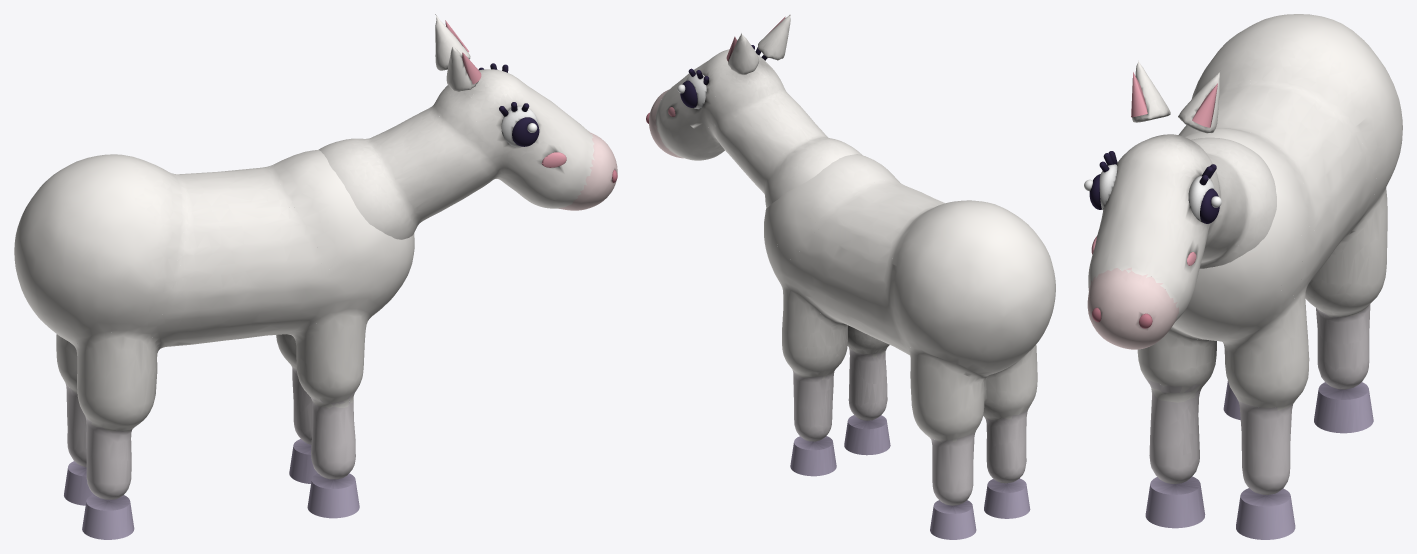
Rendered from vad-rekommenderar-du.glb.
3 views of the same model, side by side, from view 1: azimuth 30°, elevation 25°; view 2: azimuth 150°, elevation 25°; view 3: azimuth 270°, elevation 25° (orthographic). The views are drawn at different scales.
Parts seen in each view (by area): view 1: unicornia__r0, cabeca__r0, unicornia__r2, unicornia__r4, unicornia__r1, unicornia__r3; view 2: unicornia__r0, cabeca__r0, unicornia__r2, unicornia__r3, unicornia__r4, unicornia__r1; view 3: unicornia__r0, cabeca__r0, unicornia__r3, unicornia__r4, unicornia__r1, cabeca__r15, cabeca__r4, cabeca__r6, cabeca__r13, cabeca__r16, unicornia__r2.
Part boxes in pixels (x1=…): unicornia__r0: x1=14, y1=149, x2=414, y2=499; cabeca__r0: x1=319, y1=14, x2=617, y2=239; unicornia__r2: x1=82, y1=494, x2=134, y2=539; unicornia__r4: x1=307, y1=473, x2=359, y2=518; unicornia__r1: x1=64, y1=461, x2=93, y2=505; unicornia__r3: x1=289, y1=439, x2=317, y2=483; unicornia__r0: x1=764, y1=154, x2=1055, y2=505; cabeca__r0: x1=649, y1=14, x2=862, y2=207; unicornia__r2: x1=984, y1=478, x2=1030, y2=518; unicornia__r3: x1=790, y1=436, x2=836, y2=476; unicornia__r4: x1=844, y1=415, x2=890, y2=455; unicornia__r1: x1=930, y1=500, x2=976, y2=539; unicornia__r0: x1=1137, y1=14, x2=1402, y2=494; cabeca__r0: x1=1087, y1=60, x2=1276, y2=349; unicornia__r3: x1=1236, y1=488, x2=1295, y2=539; unicornia__r4: x1=1145, y1=476, x2=1205, y2=528; unicornia__r1: x1=1314, y1=382, x2=1373, y2=433; cabeca__r15: x1=1188, y1=175, x2=1215, y2=222; cabeca__r4: x1=1192, y1=83, x2=1217, y2=127; cabeca__r6: x1=1099, y1=164, x2=1117, y2=210; cabeca__r13: x1=1131, y1=72, x2=1147, y2=117; cabeca__r16: x1=1200, y1=188, x2=1219, y2=223; unicornia__r2: x1=1223, y1=381, x2=1240, y2=419.
Size of the model in its own units: 2.59 by 2.16 by 1.22.
